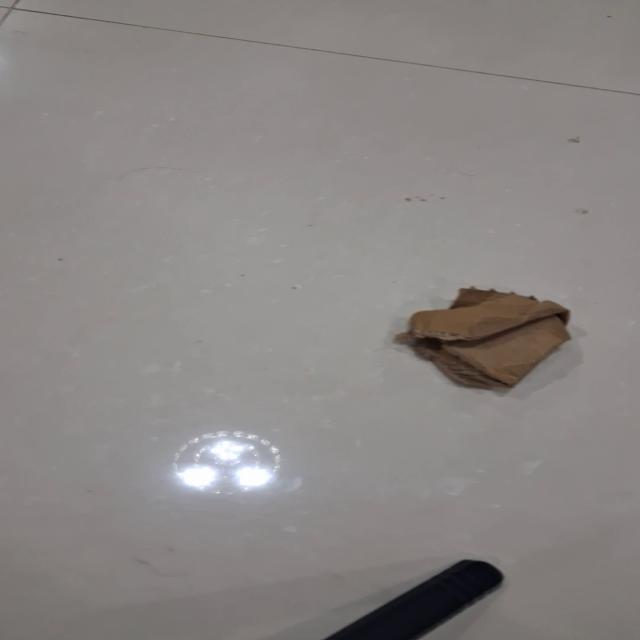paper: (394, 285, 572, 390)
